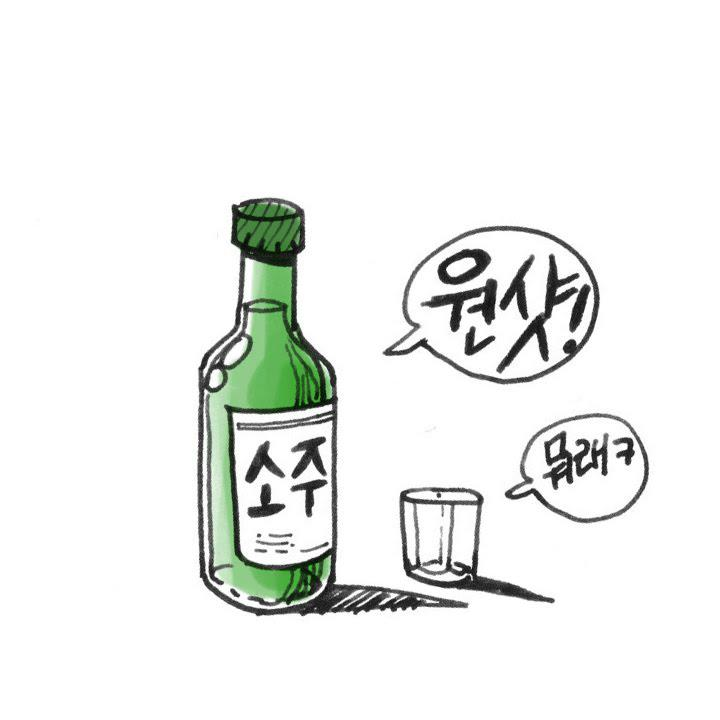soju: (193, 188, 342, 618)
